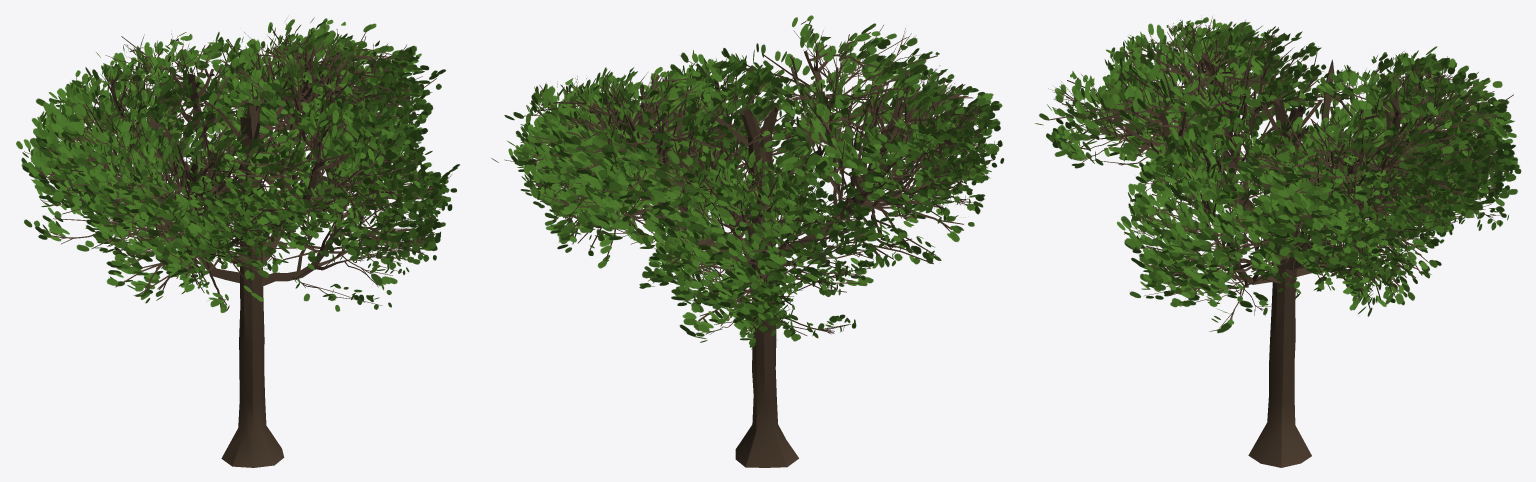
3 renders of one model, left to right at view 1: azimuth 30°, elevation 25°; view 2: azimuth 150°, elevation 25°; view 3: azimuth 270°, elevation 25°, orthographic. The views are drawn at different scales.
Parts seen in each view (by area): view 1: oak 01.001_trunk_Mat.001_0.142; view 2: oak 01.001_trunk_Mat.001_0.142; view 3: oak 01.001_trunk_Mat.001_0.142.
Part boxes in pixels (x1,y1,x2,y2): oak 01.001_trunk_Mat.001_0.142: [16, 17, 459, 467]; oak 01.001_trunk_Mat.001_0.142: [491, 15, 1004, 467]; oak 01.001_trunk_Mat.001_0.142: [1035, 16, 1521, 467].
Bounding box in the file's own units: 4.27 × 3.64 × 4.37.
2 materials, 1 textured.
